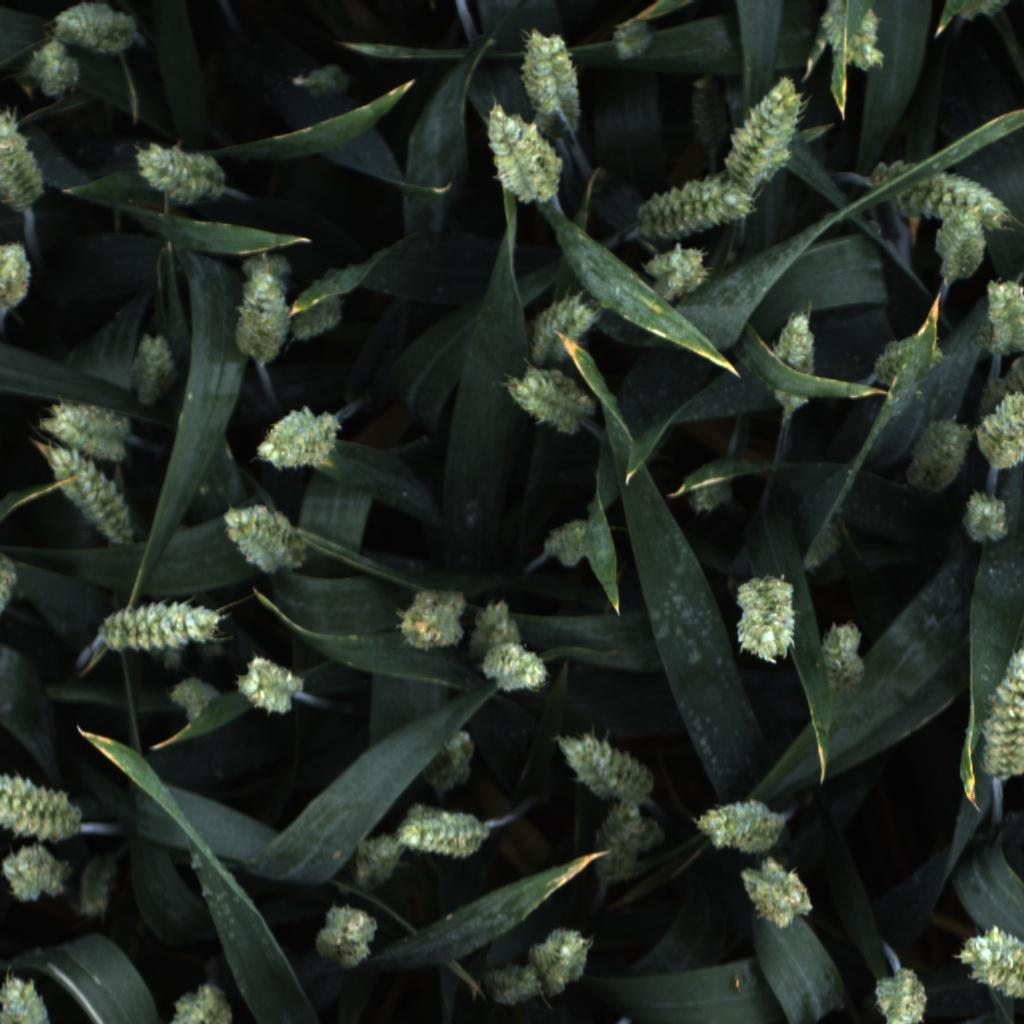0-0: (863, 154, 1014, 238), (34, 447, 145, 548), (473, 100, 567, 207), (721, 74, 804, 191), (634, 170, 758, 244), (550, 728, 658, 806), (100, 593, 221, 657), (220, 493, 310, 579), (501, 364, 600, 441), (0, 758, 88, 844), (683, 793, 798, 858), (128, 139, 231, 210), (515, 27, 582, 135), (41, 391, 139, 464), (228, 256, 292, 365), (976, 642, 1024, 786), (901, 409, 977, 494), (730, 576, 803, 664), (952, 921, 1024, 1006), (461, 585, 537, 665), (254, 405, 341, 474), (394, 800, 493, 860), (739, 856, 816, 932), (394, 587, 472, 658), (0, 102, 49, 214), (527, 284, 596, 363), (819, 0, 891, 74), (928, 203, 995, 282), (125, 324, 186, 409), (236, 647, 308, 717), (589, 797, 646, 885), (769, 312, 817, 415), (50, 4, 152, 52), (0, 842, 76, 906), (311, 901, 381, 970), (413, 724, 481, 794), (869, 331, 947, 391), (527, 927, 591, 997), (642, 243, 714, 304), (478, 641, 553, 698), (23, 38, 88, 102), (974, 390, 1024, 470), (686, 73, 734, 155), (816, 620, 869, 694), (974, 274, 1024, 351), (154, 974, 230, 1024), (868, 966, 933, 1024), (350, 828, 409, 891), (74, 853, 124, 925), (291, 291, 353, 347), (479, 960, 543, 1013), (0, 967, 59, 1024), (0, 239, 36, 328), (958, 491, 1011, 547), (296, 60, 357, 108), (542, 516, 595, 570), (167, 676, 223, 726), (609, 11, 661, 64), (797, 518, 843, 573), (683, 473, 735, 518), (0, 552, 23, 616), (979, 375, 1011, 417), (956, 0, 1011, 23), (640, 817, 666, 856), (1003, 355, 1024, 399)
